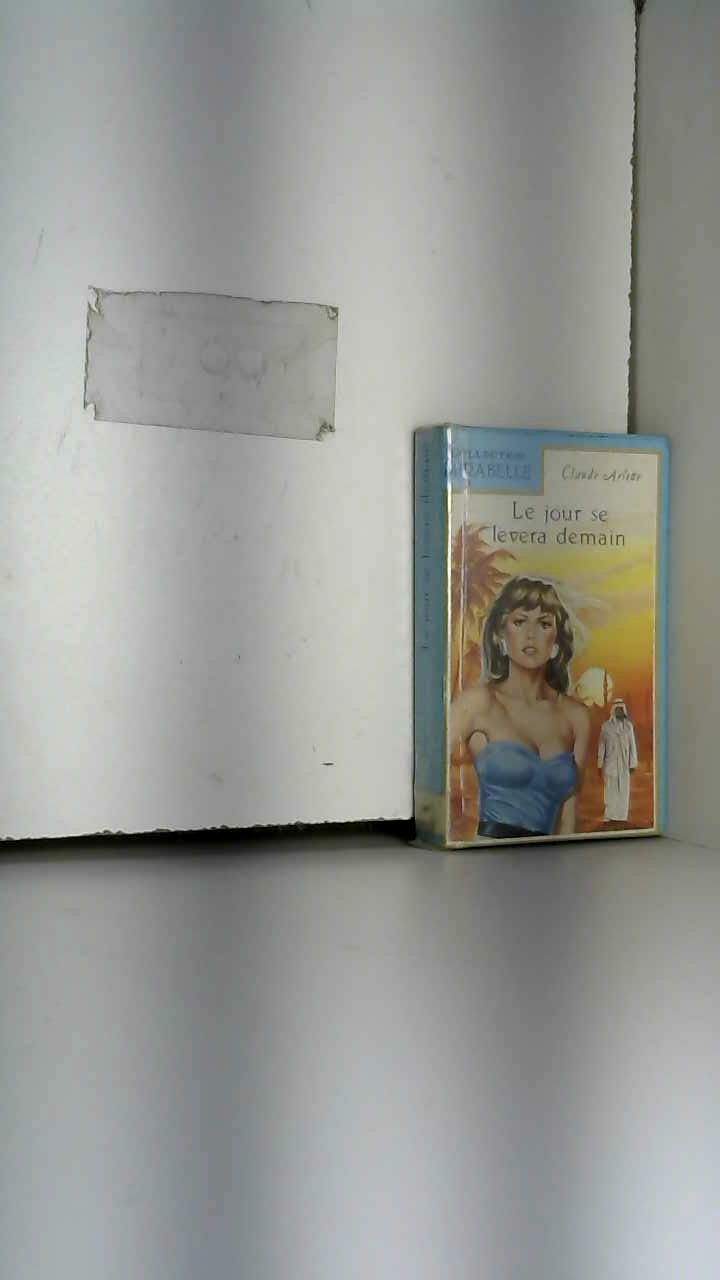book: (374, 387, 709, 883)
